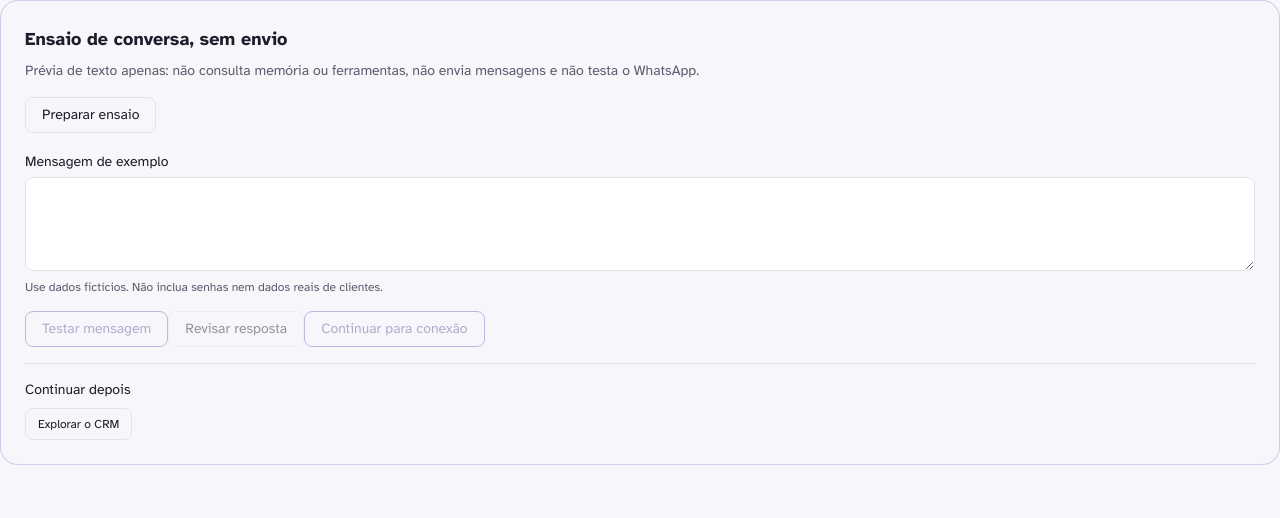
draft_credential_unavailable conserva mensagem e saída sem avançar
In the text box labelled "Mensagem de exemplo": (640, 224) 25,177 -> 1255,271, type "Pergunta sintética QA"
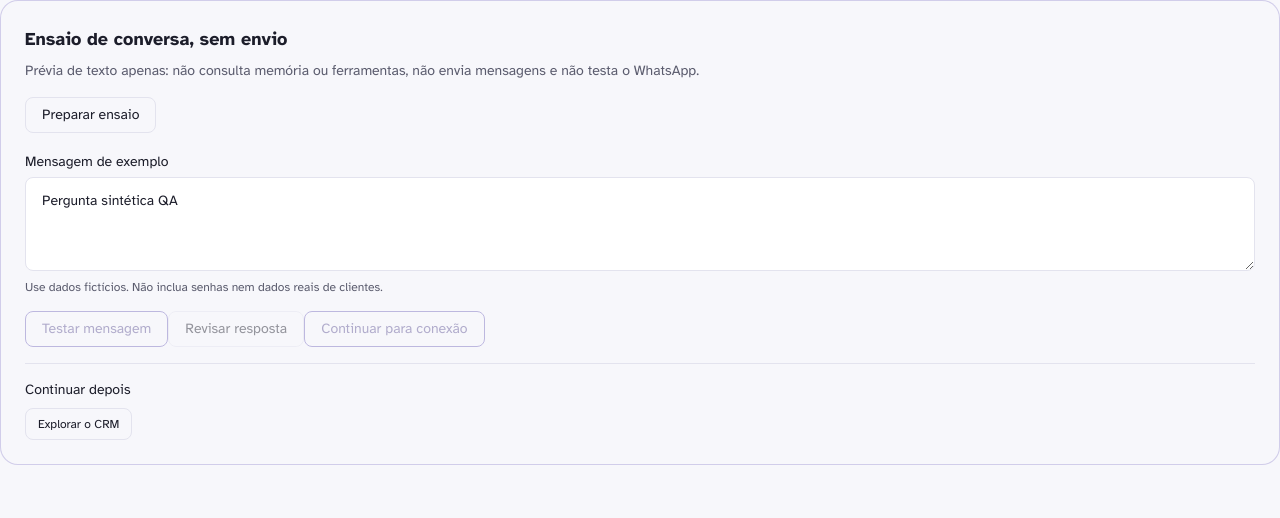
Click the button "Preparar ensaio": (91, 115) 25,97 -> 156,133
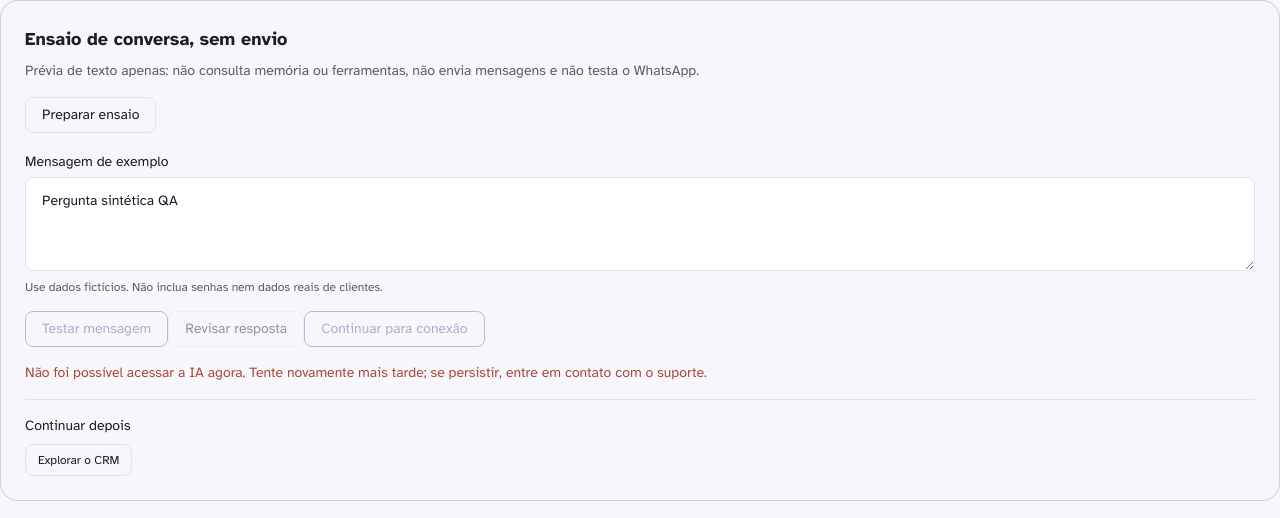
Expected: the button "Continuar para conexão" is disabled, 304,311 -> 484,347
Now the message shows "Não foi possível acessar a IA agora. Tente novamente mais tarde; se persistir, entre em contato com o suporte.", box 25,364 -> 707,381
